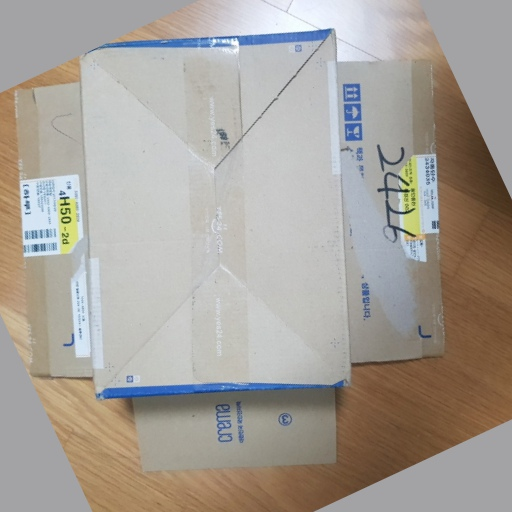Paper_0: (14, 29, 448, 483)
